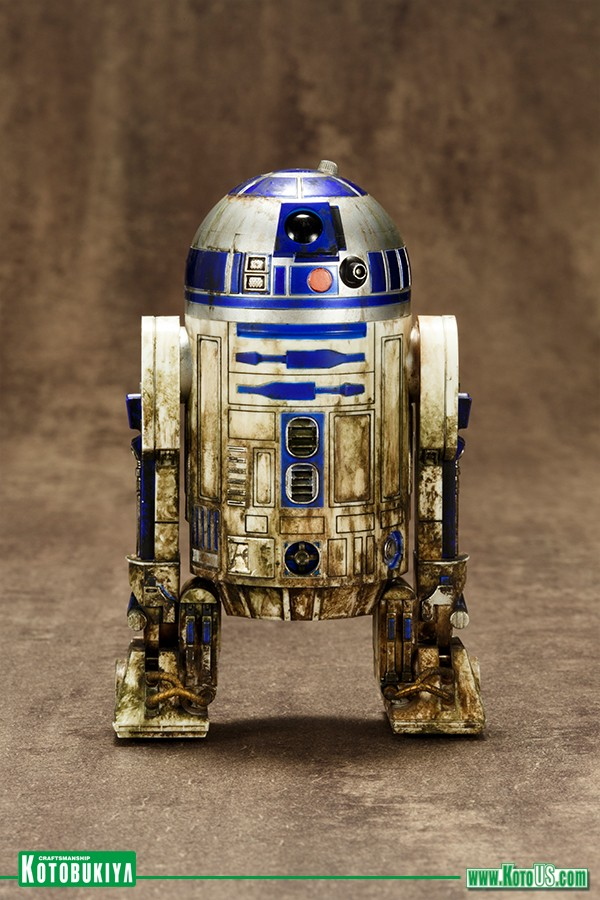r2d2: (113, 161, 486, 741)
